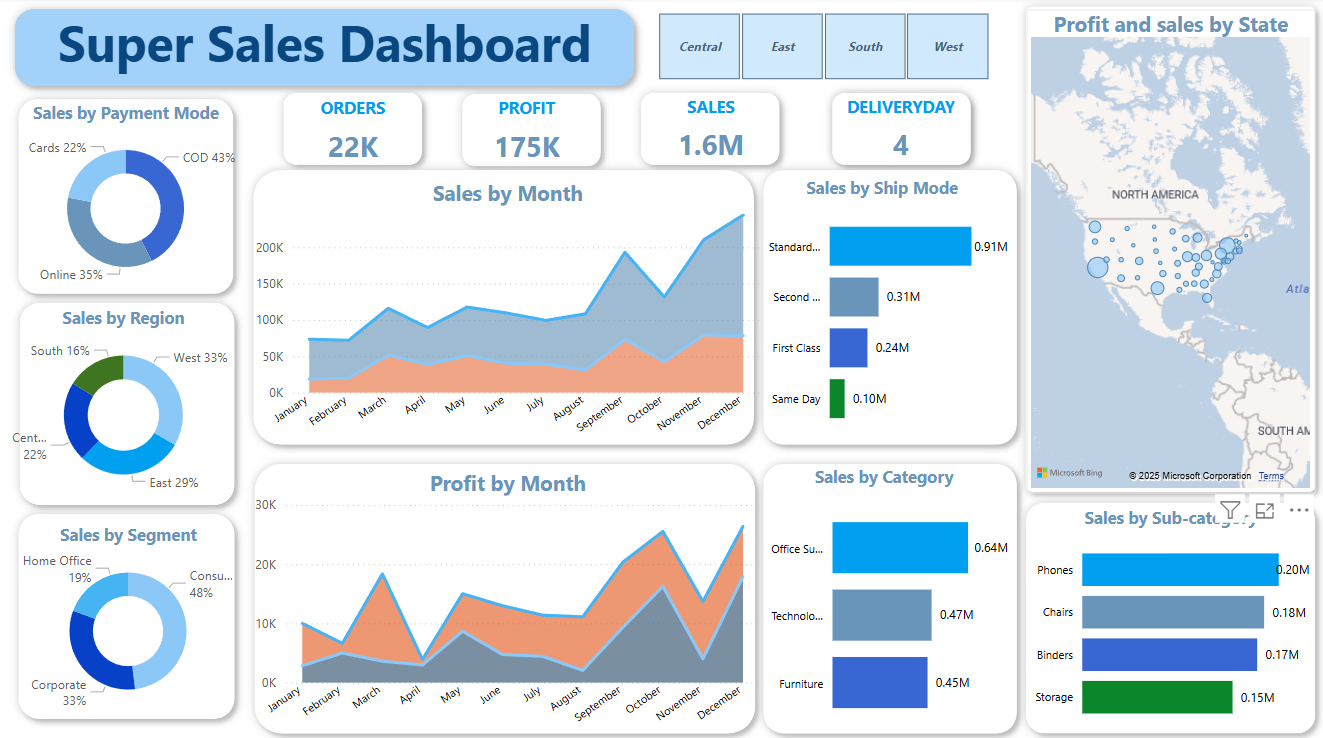

Layout of this report page (visuals, bound fields, positions):
{"tool":"powerbi","page":{"name":"Sales Dashboard","canvas":[1280,720],"ordinal":0},"visuals":[{"type":"textbox","box":[10,0,280,280],"z":0},{"type":"shape","box":[9.7,89.3,225.6,206.3],"z":1000},{"type":"shape","box":[10.9,285.9,225.6,213.5],"z":2000},{"type":"shape","box":[9.7,489.8,226.8,216],"z":3000},{"type":"shape","box":[6,2.4,616.5,92.9],"z":4000},{"type":"shape","box":[265.4,83.2,152,88.1],"z":5000},{"type":"shape","box":[437.9,84.5,152,88.1],"z":6000},{"type":"shape","box":[610.5,83.2,152,88.1],"z":7000},{"type":"shape","box":[795,83.2,152,88.1],"z":8000},{"type":"shape","box":[236.5,158,501.9,283.5],"z":9000},{"type":"shape","box":[237.7,441.6,501.9,278.7],"z":10000},{"type":"shape","box":[728.7,158,263,283.5],"z":11000},{"type":"shape","box":[728.7,441.6,263,278.7],"z":12000},{"type":"shape","box":[982,479,298,241.3],"z":13000},{"type":"shape","box":[982,0,298,487.4],"z":14000},{"type":"textbox","box":[12.1,6,604.4,77.2],"z":15000},{"type":"cardVisual","fields":{"Data":["Sum(SuperStore_Sales_Dataset.Profit)"]},"box":[437.9,77.2,143.6,102.5],"z":16000},{"type":"cardVisual","fields":{"Data":["Sum(SuperStore_Sales_Dataset.Sales)"]},"box":[616.5,77.2,141.2,90.5],"z":17000},{"type":"donutChart","title":" Sales by Payment Mode","fields":{"Y":["Sum(SuperStore_Sales_Dataset.Sales)"],"Category":["SuperStore_Sales_Dataset.Payment Mode"]},"box":[9.7,100.1,225.6,187],"z":18000},{"type":"barChart","title":" Sales by Ship Mode","fields":{"Y":["Sum(SuperStore_Sales_Dataset.Sales)"],"Category":["SuperStore_Sales_Dataset.Ship Mode"]},"box":[725.1,172.5,254.6,260.6],"z":19000},{"type":"barChart","title":" Sales by Sub-category","fields":{"Y":["Sum(SuperStore_Sales_Dataset.Sales)"],"Category":["SuperStore_Sales_Dataset.Sub-Category"]},"box":[991.7,491,278.7,223.2],"z":20000},{"type":"barChart","title":" Sales by Category","fields":{"Y":["Sum(SuperStore_Sales_Dataset.Sales)"],"Category":["SuperStore_Sales_Dataset.Category"]},"box":[728.7,451.2,250.9,269],"z":21000},{"type":"cardVisual","fields":{"Data":["Sum(SuperStore_Sales_Dataset.Quantity)"]},"box":[265.4,77.2,152,102.5],"z":22000},{"type":"stackedAreaChart","title":"Sales by Month ","fields":{"Y":["Sum(SuperStore_Sales_Dataset.Sales)"],"Series":["SuperStore_Sales_Dataset.Order Date.Variation.Date Hierarchy.Year"],"Category":["SuperStore_Sales_Dataset.Order Date.Variation.Date Hierarchy.Month"]},"box":[242.5,174.9,497.1,258.2],"z":23000},{"type":"stackedAreaChart","title":"Profit by Month ","fields":{"Series":["SuperStore_Sales_Dataset.Order Date.Variation.Date Hierarchy.Year"],"Category":["SuperStore_Sales_Dataset.Order Date.Variation.Date Hierarchy.Month","SuperStore_Sales_Dataset.Order Date.Variation.Date Hierarchy.Day"],"Y":["Sum(SuperStore_Sales_Dataset.Profit)"]},"box":[242.5,454.8,497.1,258.2],"z":24000},{"type":"donutChart","title":" Sales by Region","fields":{"Y":["Sum(SuperStore_Sales_Dataset.Sales)"],"Category":["SuperStore_Sales_Dataset.Region"]},"box":[6,298,228,189.4],"z":25000},{"type":"donutChart","title":" Sales by Segment","fields":{"Y":["Sum(SuperStore_Sales_Dataset.Sales)"],"Category":["SuperStore_Sales_Dataset.Segment"]},"box":[12.1,507.9,225.6,187],"z":26000},{"type":"slicer","fields":{"Values":["SuperStore_Sales_Dataset.Region"]},"box":[616.5,12.1,357.1,71.2],"z":27000},{"type":"map","title":"Profit and sales by State","fields":{"Category":["SuperStore_Sales_Dataset.State"],"Size":["Sum(SuperStore_Sales_Dataset.Sales)"]},"box":[991.7,12.1,278.7,466.9],"z":28000},{"type":"cardVisual","fields":{"Data":["Avg(SuperStore_Sales_Dataset.AvgDeliveryDay)"]},"box":[799.9,77.2,141.2,90.5],"z":29000}]}

Visuals, with their boxes in screenshot pixels (x1, y1, x2, y2), scaled from the page's 1280x720 canvas onto the 1323x738 screenshot:
textbox: 10, 0, 300, 287
shape: 10, 92, 243, 303
shape: 11, 293, 244, 512
shape: 10, 502, 244, 723
shape: 6, 2, 643, 98
shape: 274, 85, 431, 176
shape: 453, 87, 610, 177
shape: 631, 85, 788, 176
shape: 822, 85, 979, 176
shape: 244, 162, 763, 453
shape: 246, 453, 764, 737
shape: 753, 162, 1025, 453
shape: 753, 453, 1025, 737
shape: 1015, 491, 1322, 737
shape: 1015, 0, 1322, 500
textbox: 13, 6, 637, 85
cardVisual - Sum(SuperStore_Sales_Dataset.Profit): 453, 79, 601, 184
cardVisual - Sum(SuperStore_Sales_Dataset.Sales): 637, 79, 783, 172
" Sales by Payment Mode" donutChart: 10, 103, 243, 294
" Sales by Ship Mode" barChart: 749, 177, 1013, 444
" Sales by Sub-category" barChart: 1025, 503, 1313, 732
" Sales by Category" barChart: 753, 462, 1013, 737
cardVisual - Sum(SuperStore_Sales_Dataset.Quantity): 274, 79, 431, 184
"Sales by Month " stackedAreaChart: 251, 179, 764, 444
"Profit by Month " stackedAreaChart: 251, 466, 764, 731
" Sales by Region" donutChart: 6, 305, 242, 500
" Sales by Segment" donutChart: 13, 521, 246, 712
slicer - SuperStore_Sales_Dataset.Region: 637, 12, 1006, 85
"Profit and sales by State" map: 1025, 12, 1313, 491
cardVisual - Avg(SuperStore_Sales_Dataset.AvgDeliveryDay): 827, 79, 973, 172
